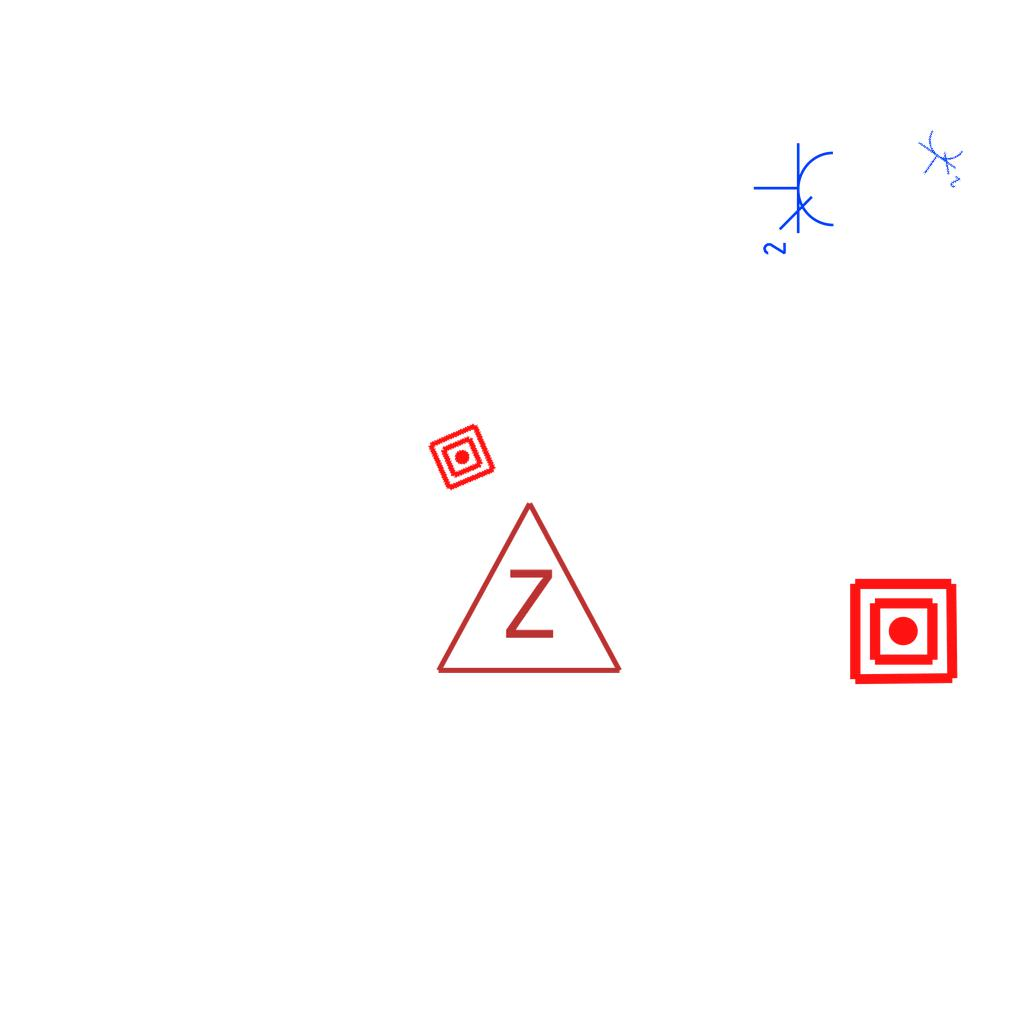NAM-Nichtautomatischer_Melder: (847, 575, 960, 688), (425, 420, 499, 494)
Schukosteckdose_mehrfach: (752, 141, 840, 262), (904, 124, 980, 196)
Zimmersignalleuchte: (429, 488, 625, 688)
